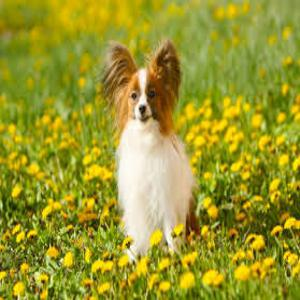yell: (101, 40, 201, 261)
